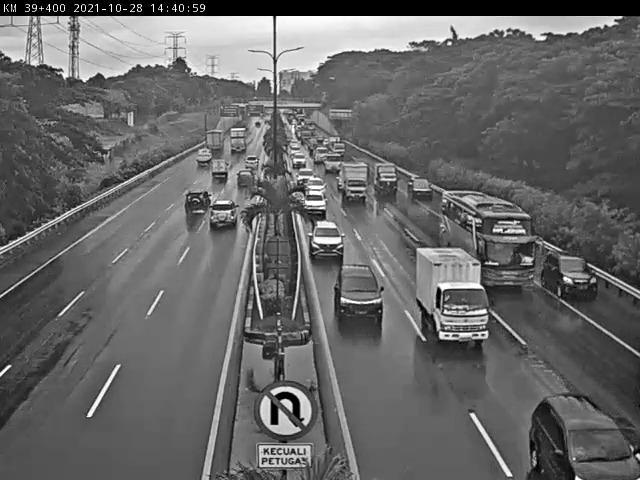big bus: (441, 189, 538, 289)
car: (540, 249, 599, 299), (334, 262, 384, 320), (306, 218, 344, 256), (208, 198, 239, 228), (184, 189, 212, 214), (303, 189, 327, 216)
mid truck: (414, 246, 491, 346)
